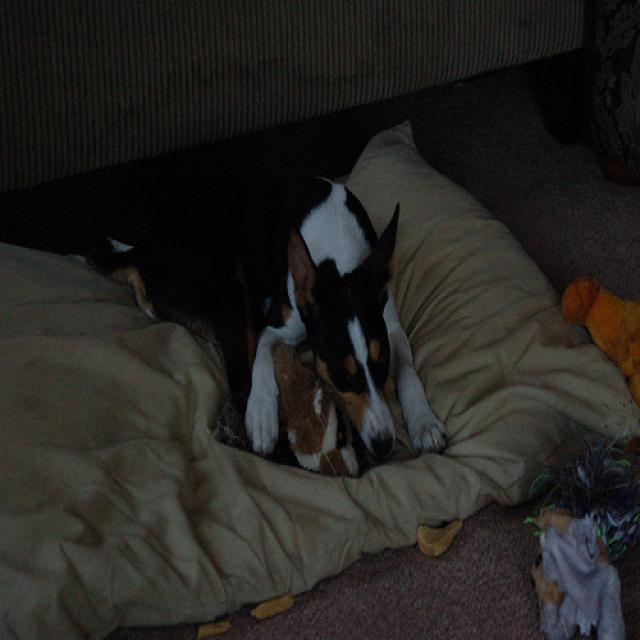Dog: (119, 103, 467, 487)
